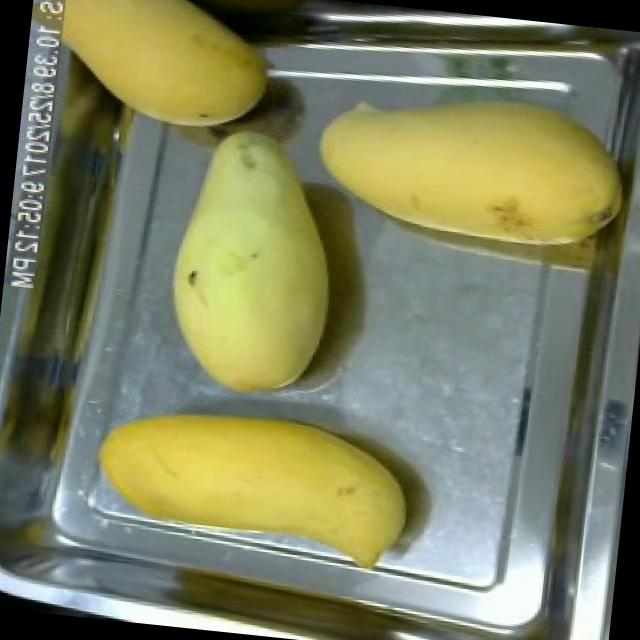fruit: (295, 62, 640, 281), (70, 380, 432, 574), (145, 110, 360, 413), (48, 0, 284, 145)
